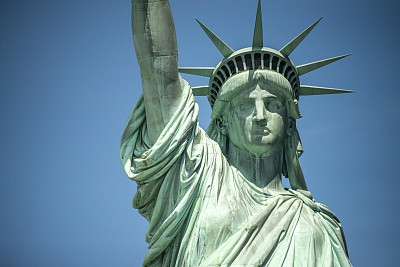SL: (120, 1, 353, 267)
